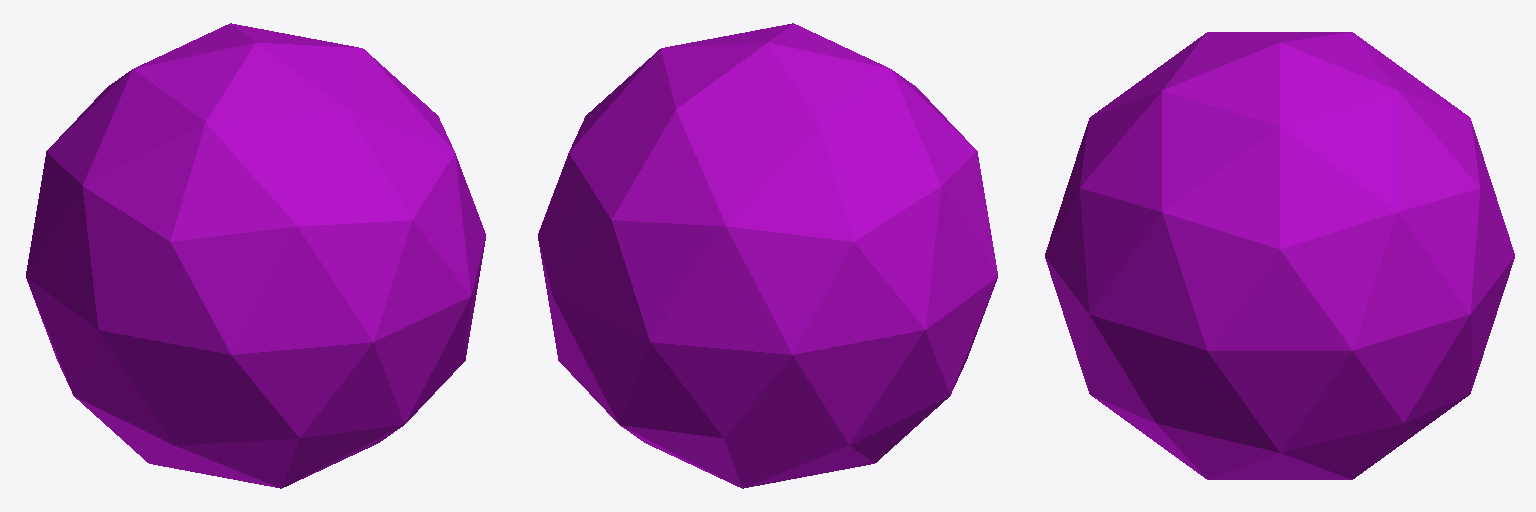
Rendered from ico-sphere.obj.
3 renders of one model, left to right at view 1: azimuth 30°, elevation 25°; view 2: azimuth 150°, elevation 25°; view 3: azimuth 270°, elevation 25°, orthographic.
Parts seen in each view (by area): view 1: Icosphere; view 2: Icosphere; view 3: Icosphere.
Boxes of the visible parts, <box> form: Icosphere: <box>26,23,485,488</box>; Icosphere: <box>538,23,997,488</box>; Icosphere: <box>1045,32,1514,479</box>.
Bounding box in the file's own units: 1.9 × 2 × 2.